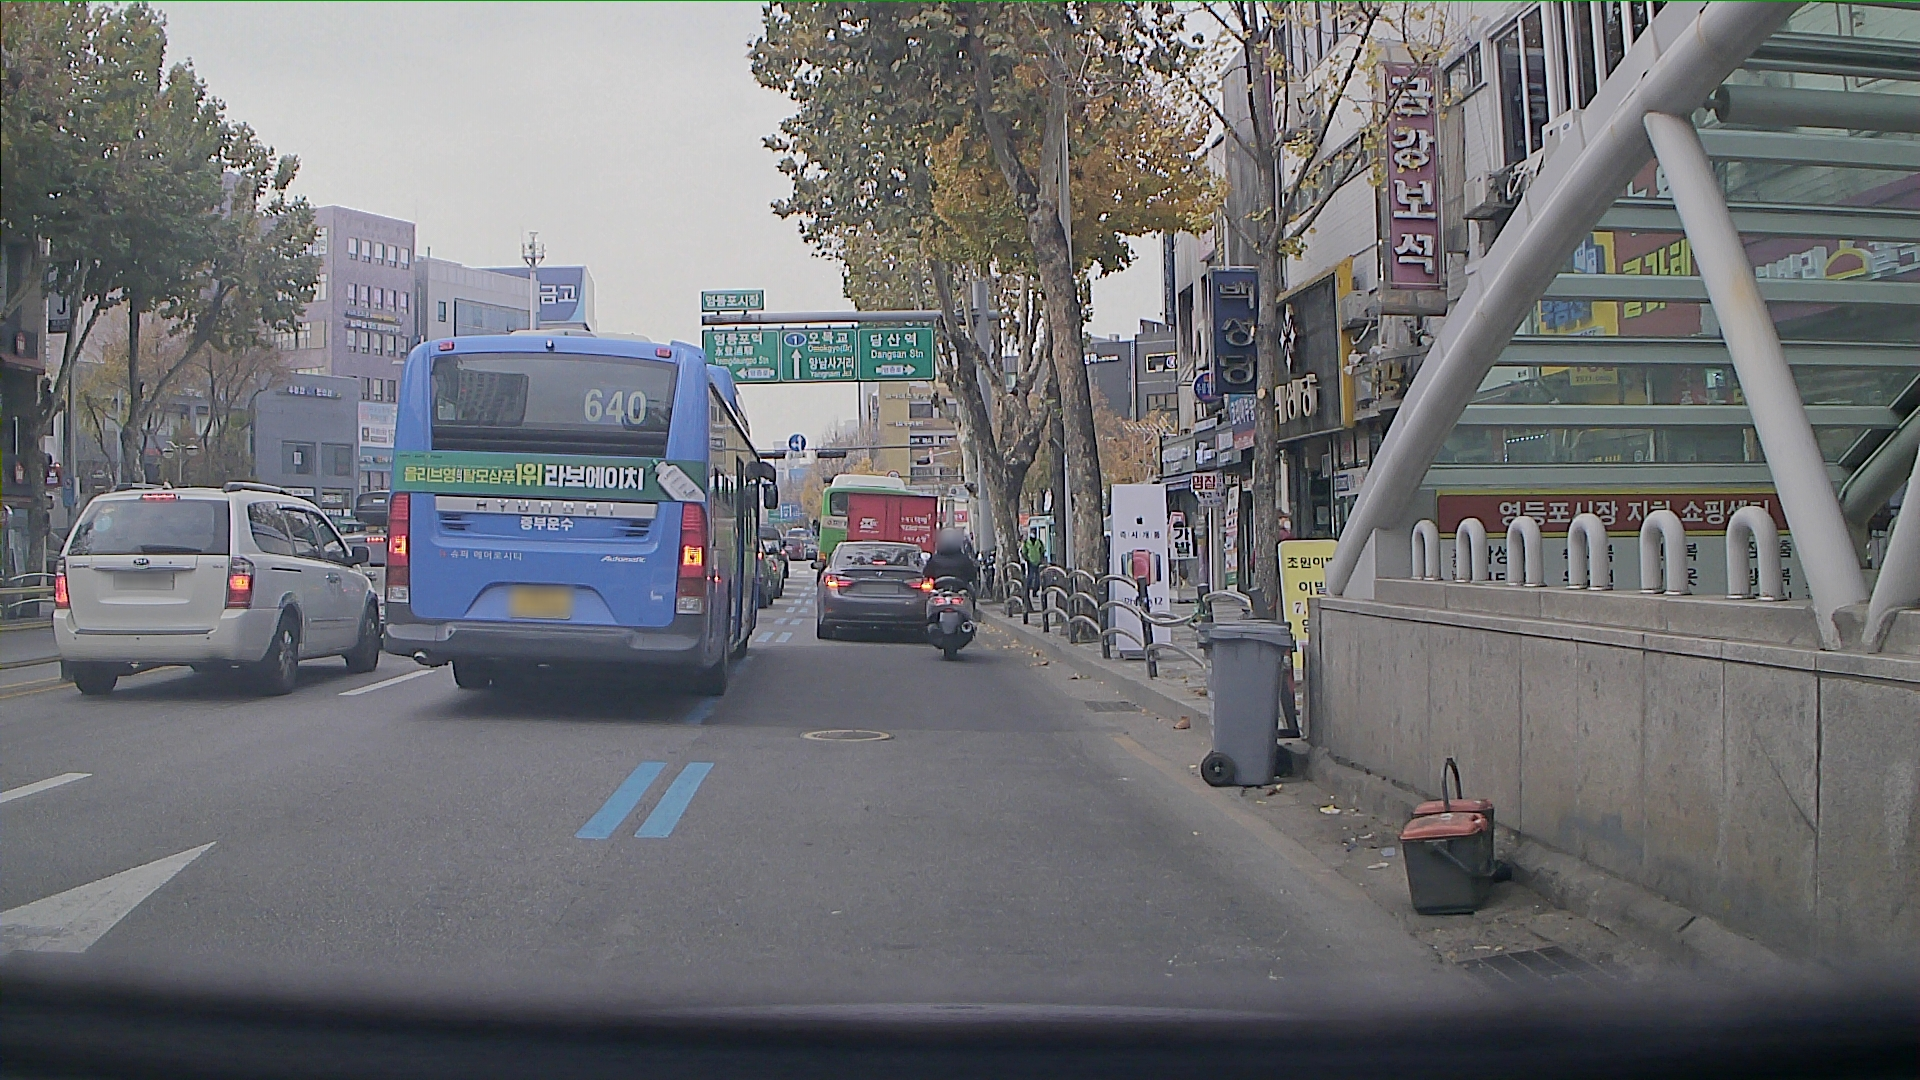trafficLight: (818, 448, 852, 462), (761, 451, 786, 459)
trafficSignCircle: (790, 433, 804, 448)
